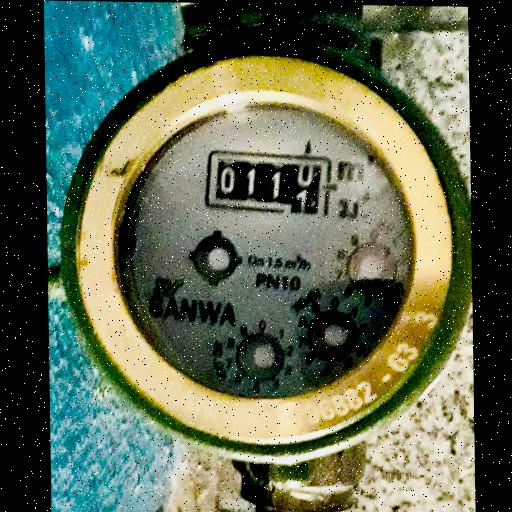0: (290, 162, 322, 215), (214, 158, 241, 201)
1: (259, 161, 294, 205), (235, 158, 264, 203)
border_water_meter_number: (202, 147, 334, 217)
